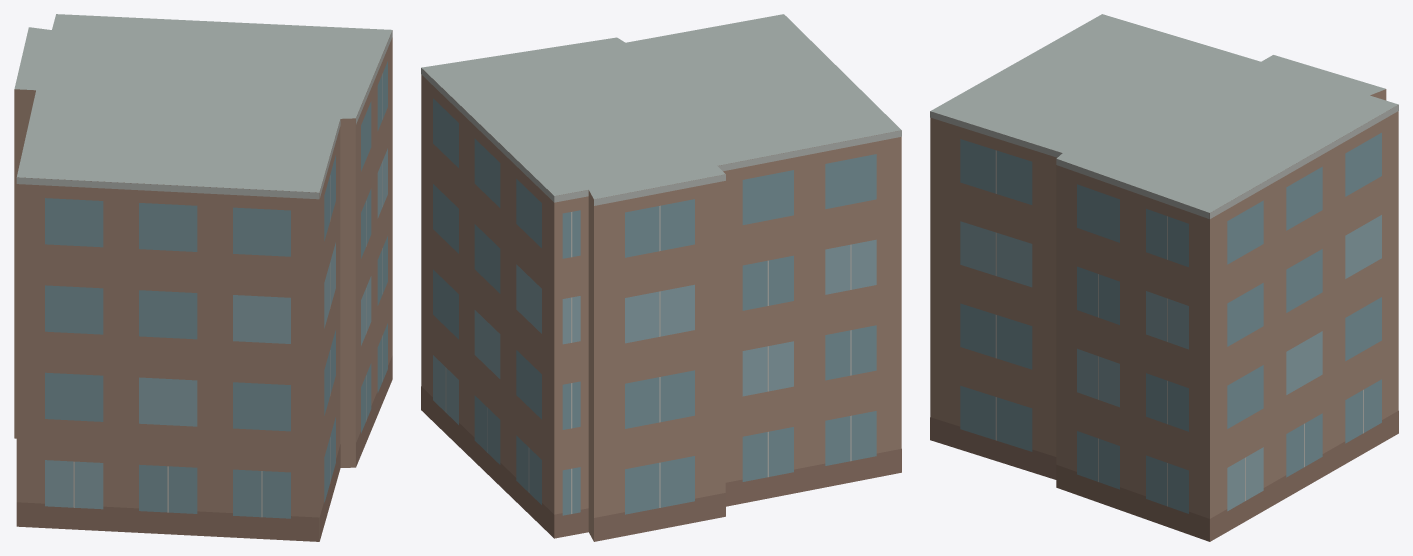
File: survey-upis-32665400.glb
3 views of the same model, side by side, from view 1: azimuth 30°, elevation 25°; view 2: azimuth 150°, elevation 25°; view 3: azimuth 270°, elevation 25° (orthographic). The views are drawn at different scales.
Parts seen in each view (by area): view 1: survey-upis-32665400.tmp; view 2: survey-upis-32665400.tmp; view 3: survey-upis-32665400.tmp.
Boxes of the visible parts, left/top/right/bottom form: survey-upis-32665400.tmp: left=14, top=14, right=392, bottom=541; survey-upis-32665400.tmp: left=421, top=14, right=901, bottom=541; survey-upis-32665400.tmp: left=930, top=14, right=1398, bottom=541.
Bounding box in the file's own units: 16.49 × 12.7 × 16.41.
